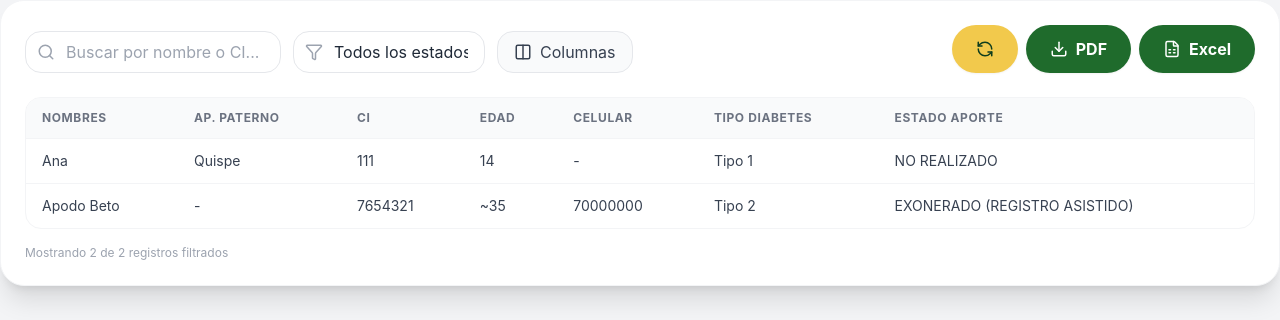
Scenario: Reporte de beneficiarios: el Registro Asistido también cuenta › se busca por código y se filtra por «Registro asistido»
Expected: the text "Quispe" is shown, [178,138,341,184]
Type "ra-00005" into the field with placeholder "Buscar por nombre o CI...".
click(153, 52); type("ra-00005")  # box [25,31,281,73]
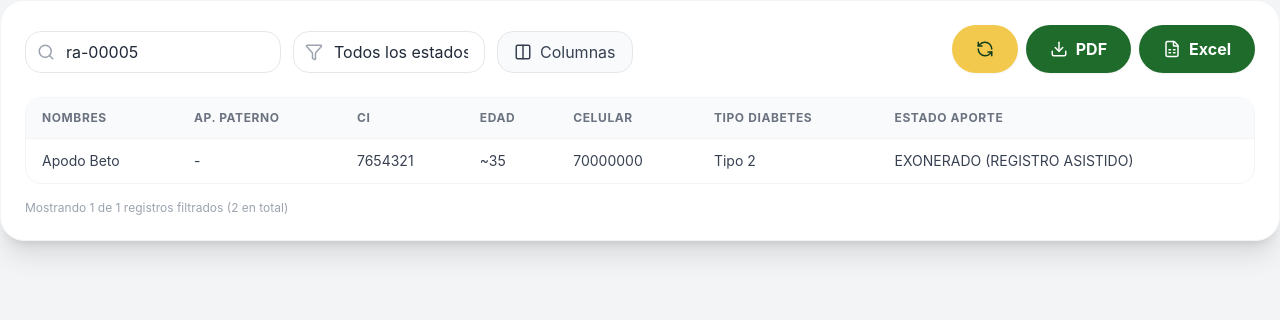
Expected: the text "Apodo Beto" is shown, [26,138,178,183]
Now the text "Quispe" is gone
Clear the field with placeholder "Buscar por nombre o CI..." at (153, 52), box [25,31,281,73]
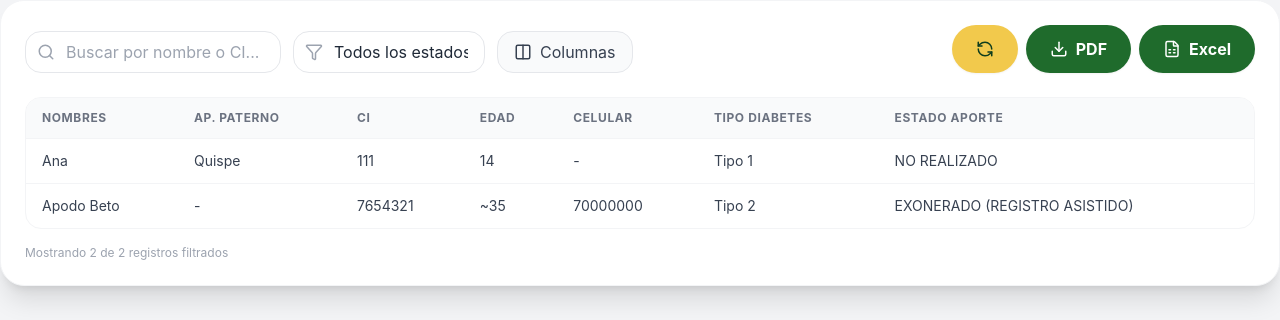
Select "Registro asistido" in the dropdown showing "Todos los estados" at (389, 52), box [293,31,485,73]
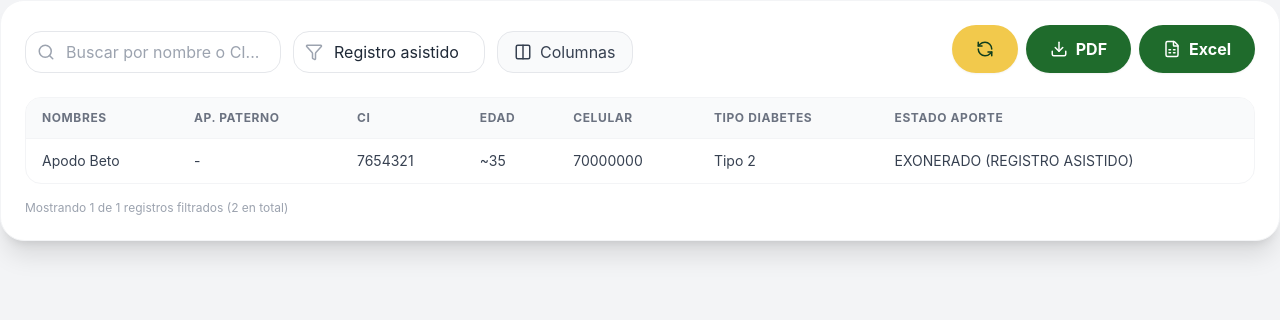
Expected: the text "Apodo Beto" is shown, [26,138,178,183]
Now the text "Quispe" is gone
